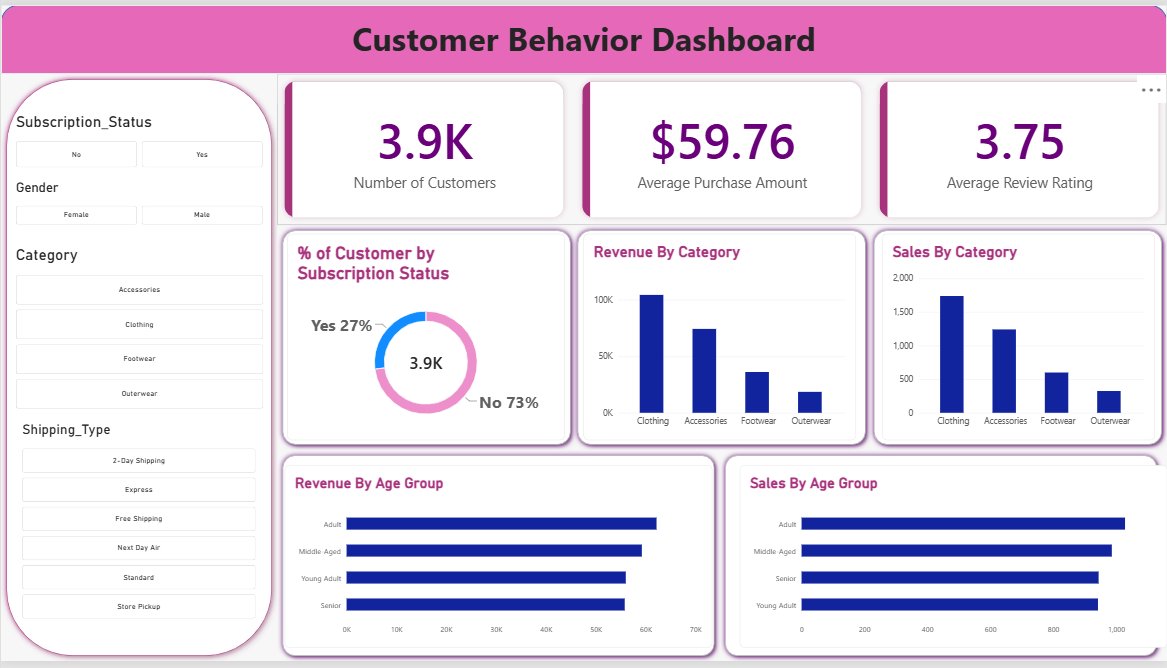

Layout of this report page (visuals, bound fields, positions):
{"tool":"powerbi","page":{"name":"Page 1","canvas":[1920,1080],"ordinal":0},"visuals":[{"type":"cardVisual","fields":{"Data":["customer_behaviour customer_shopping.Number of Customers","customer_behaviour customer_shopping.Average Purchase Amount","customer_behaviour customer_shopping.Average Review Rating"]},"box":[454.9,113.2,1465.5,249.1],"z":0},{"type":"shape","box":[0,0,1920.4,113.2],"z":1000},{"type":"textbox","box":[0,0,1920.4,113.2],"z":2000},{"type":"shape","box":[454.9,362.3,491.9,370.5],"z":2001},{"type":"donutChart","title":"% of Customer by Subscription Status","fields":{"Category":["customer_behaviour customer_shopping.subscription_status"],"Y":["CountNonNull(customer_behaviour customer_shopping.customer_id)"]},"box":[471.4,376.7,456.9,339.6],"z":2002},{"type":"shape","box":[940.7,362.3,491.9,370.5],"z":2005},{"type":"shape","box":[1428.5,362.3,491.9,370.5],"z":2006},{"type":"clusteredColumnChart","title":"Revenue By Category","fields":{"Y":["Sum(customer_behaviour customer_shopping.purchase_amount)"],"Category":["customer_behaviour customer_shopping.category"]},"box":[959.2,376.7,448.7,339.6],"z":2007},{"type":"clusteredColumnChart","title":"Sales By Category","fields":{"Y":["CountNonNull(customer_behaviour customer_shopping.customer_id)"],"Category":["customer_behaviour customer_shopping.category"]},"box":[1451.1,376.7,448.7,339.6],"z":2008},{"type":"shape","box":[0,113.2,454.9,967.4],"z":2009},{"type":"advancedSlicerVisual","fields":{"Values":["customer_behaviour customer_shopping.subscription_status"]},"box":[24.7,177,407.5,90.6],"z":2010},{"type":"advancedSlicerVisual","title":"Gender","fields":{"Values":["customer_behaviour customer_shopping.gender"]},"box":[24.7,288.2,407.5,74.1],"z":2011},{"type":"advancedSlicerVisual","title":"Category","fields":{"Values":["customer_behaviour customer_shopping.category"]},"box":[24.7,397.3,407.5,267.6],"z":2012},{"type":"advancedSlicerVisual","title":"Shipping_Type","fields":{"Values":["customer_behaviour customer_shopping.shipping_type"]},"box":[35,685.4,384.9,327.3],"z":2013},{"type":"shape","box":[454.9,732.8,728.6,347.9],"z":2014},{"type":"clusteredBarChart","title":"Revenue By Age Group","fields":{"Y":["Sum(customer_behaviour customer_shopping.purchase_amount)"],"Category":["customer_behaviour customer_shopping.age_group"]},"box":[467.2,757.5,703.9,300.5],"z":2015},{"type":"shape","box":[1183.5,732.8,728.6,347.9],"z":2017},{"type":"clusteredBarChart","title":"Sales By Age Group","fields":{"Y":["CountNonNull(customer_behaviour customer_shopping.customer_id)"],"Category":["customer_behaviour customer_shopping.age_group"]},"box":[1216.5,757.5,703.9,300.5],"z":2018}]}

Visuals, with their boxes in screenshot pixels (x1, y1, x2, y2), scaled from the page's 1920x1080 canvas onto the 1167x668 screenshot:
cardVisual - customer_behaviour customer_shopping.Number of Customers x customer_behaviour customer_shopping.Average Purchase Amount: (276, 70, 1166, 224)
shape: (0, 0, 1166, 70)
textbox: (0, 0, 1166, 70)
shape: (276, 224, 575, 453)
"% of Customer by Subscription Status" donutChart: (287, 233, 564, 443)
shape: (572, 224, 871, 453)
shape: (868, 224, 1166, 453)
"Revenue By Category" clusteredColumnChart: (583, 233, 856, 443)
"Sales By Category" clusteredColumnChart: (882, 233, 1155, 443)
shape: (0, 70, 276, 667)
advancedSlicerVisual - customer_behaviour customer_shopping.subscription_status: (15, 109, 263, 166)
"Gender" advancedSlicerVisual: (15, 178, 263, 224)
"Category" advancedSlicerVisual: (15, 246, 263, 411)
"Shipping_Type" advancedSlicerVisual: (21, 424, 255, 626)
shape: (276, 453, 719, 667)
"Revenue By Age Group" clusteredBarChart: (284, 469, 712, 654)
shape: (719, 453, 1162, 667)
"Sales By Age Group" clusteredBarChart: (739, 469, 1166, 654)
